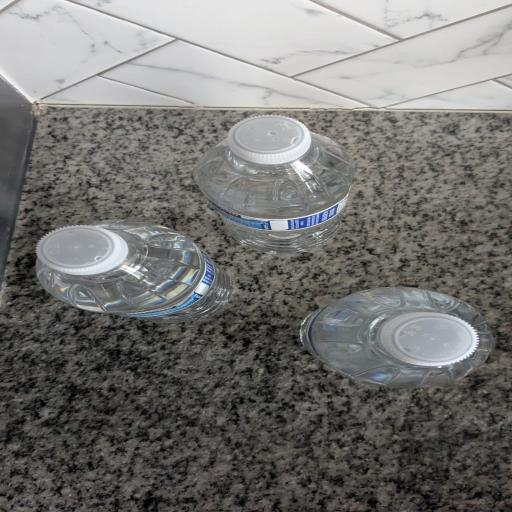waterbottle: (196, 116, 354, 252), (37, 220, 231, 322), (301, 287, 493, 388)
